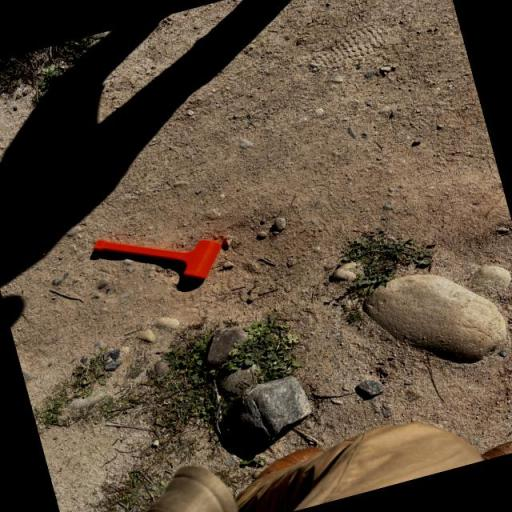mallet: (92, 210, 228, 304)
